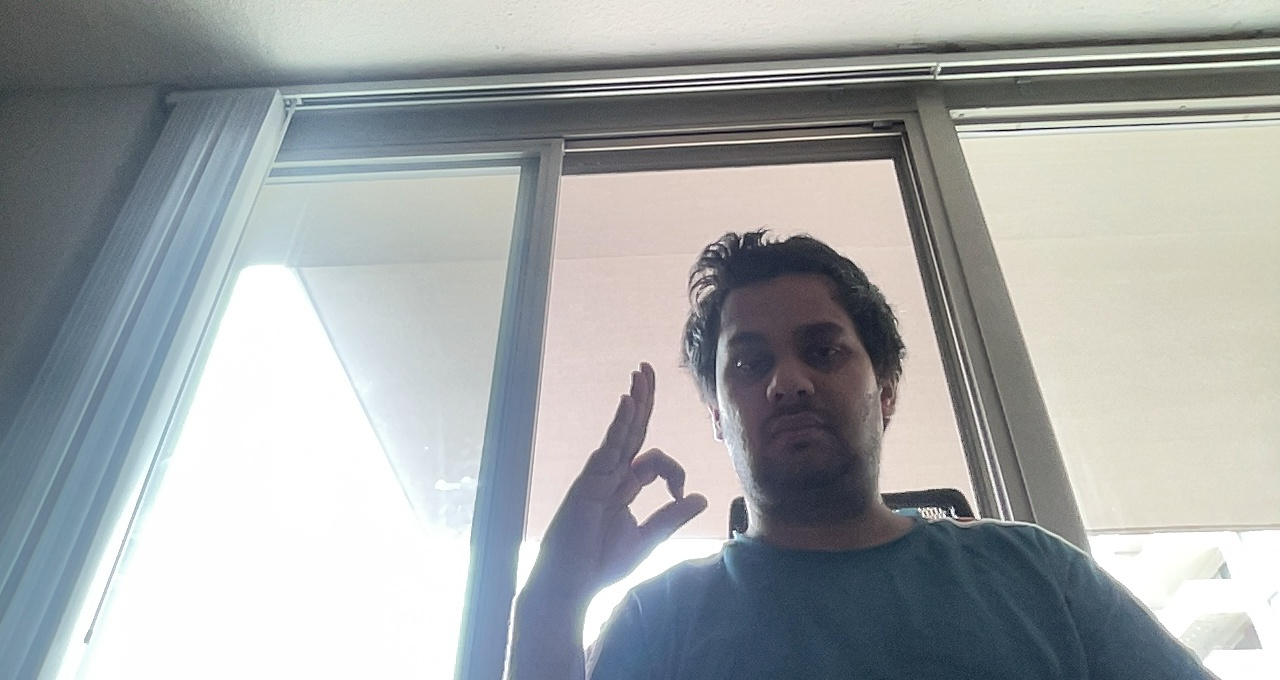ok: (532, 355, 714, 579)
